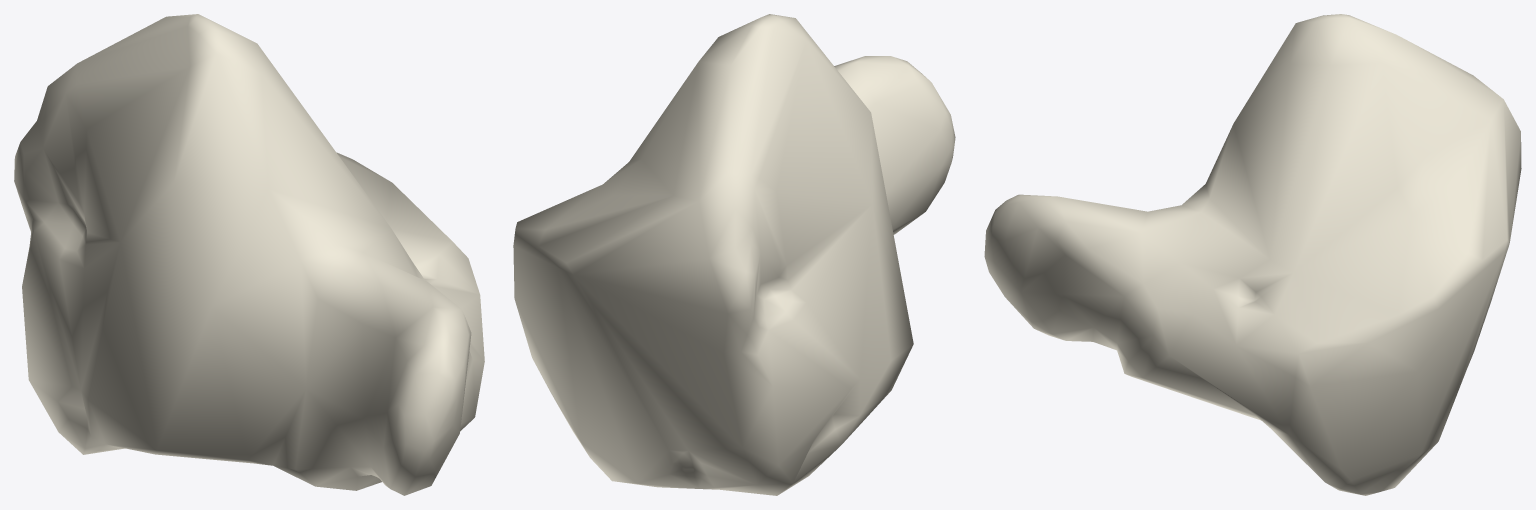
The picture shows the model from 3 angles, left to right: view 1: azimuth 30°, elevation 25°; view 2: azimuth 150°, elevation 25°; view 3: azimuth 270°, elevation 25°; orthographic projection. The views are drawn at different scales.
Parts seen in each view (by area): view 1: ZA_bf08851726db8fc8; view 2: ZA_bf08851726db8fc8; view 3: ZA_bf08851726db8fc8.
Part boxes in pixels (left/top/right/bottom): ZA_bf08851726db8fc8: left=14, top=14, right=484, bottom=495; ZA_bf08851726db8fc8: left=513, top=14, right=955, bottom=495; ZA_bf08851726db8fc8: left=984, top=14, right=1521, bottom=495.
Size of the model in its own units: 0.0161 by 0.0202 by 0.0234.
